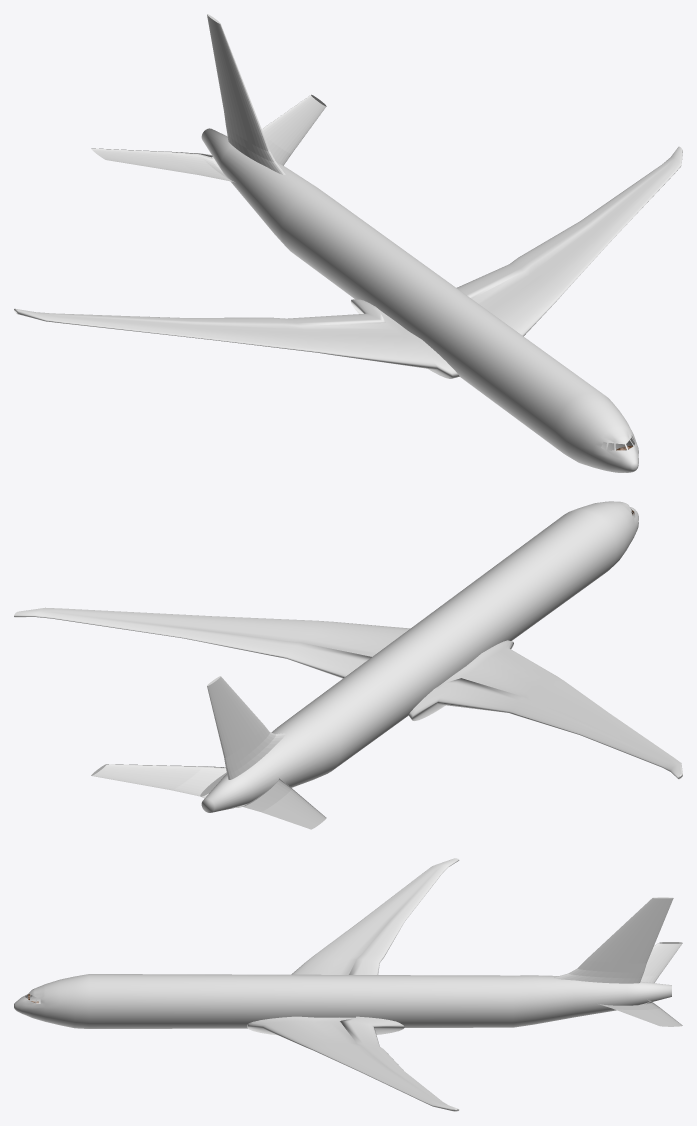
3 views of the same model, one above another, from view 1: azimuth 30°, elevation 25°; view 2: azimuth 150°, elevation 25°; view 3: azimuth 270°, elevation 25° (orthographic). The views are drawn at different scales.
Parts seen in each view (by area): view 1: Cylinder.001, Cylinder, Cylinder.003, Cylinder.002; view 2: Cylinder.001, Cylinder, Cylinder.003, Cylinder.002; view 3: Cylinder.001, Cylinder, Cylinder.002, Cylinder.003.
Boxes of the visible parts, x1,y1,x2,y2 form: Cylinder.001: (201,128,638,472); Cylinder: (14,146,682,378); Cylinder.003: (91,94,326,182); Cylinder.002: (207,14,285,174); Cylinder.001: (201,501,638,812); Cylinder: (14,607,682,779); Cylinder.003: (91,764,326,829); Cylinder.002: (207,676,285,779); Cylinder.001: (14,974,671,1028); Cylinder: (247,858,459,1111); Cylinder.002: (554,897,673,983); Cylinder.003: (598,942,682,1026).
Size of the model in its own units: 66.43 by 15.97 by 75.15.
Materials: 2 (1 with a texture image).
